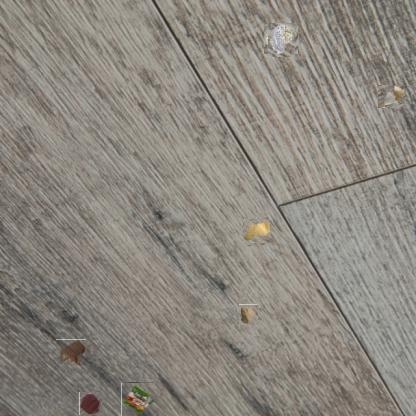dirty: (121, 382, 156, 416), (266, 25, 297, 56), (380, 83, 406, 109), (243, 218, 269, 244), (238, 304, 258, 325)
liquid: (57, 339, 86, 366), (79, 393, 101, 416)
